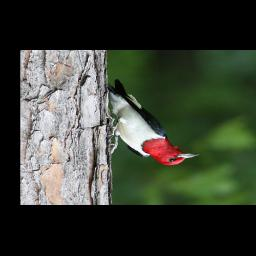Woodpecker: (102, 79, 202, 166)
